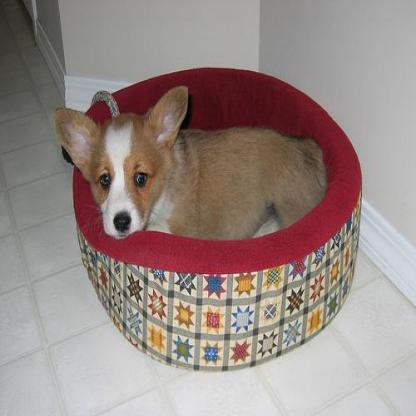Pembroke: (52, 85, 324, 241)
